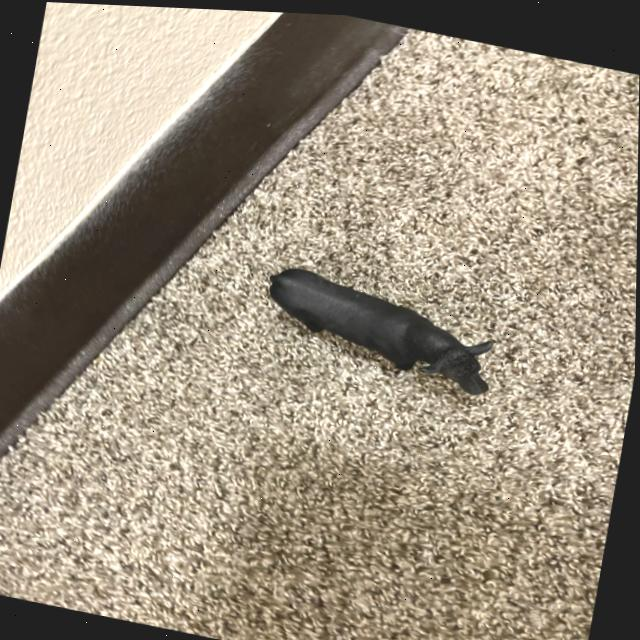cow: (258, 254, 505, 398)
